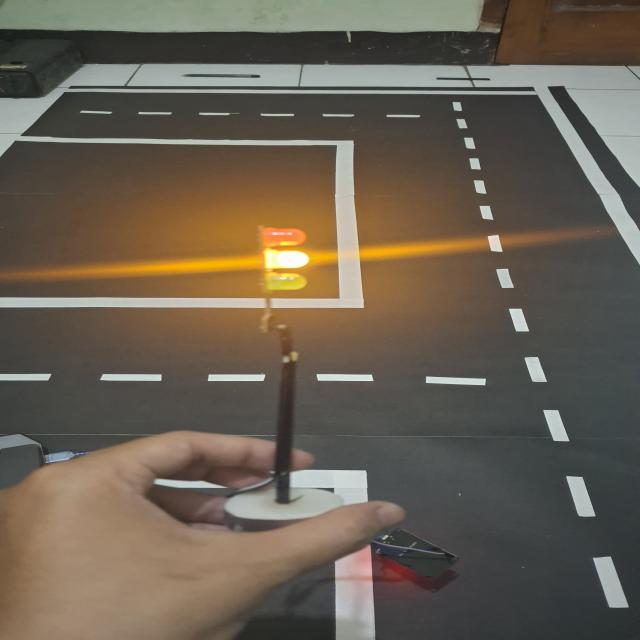Lampu Kuning: (254, 223, 313, 297)
